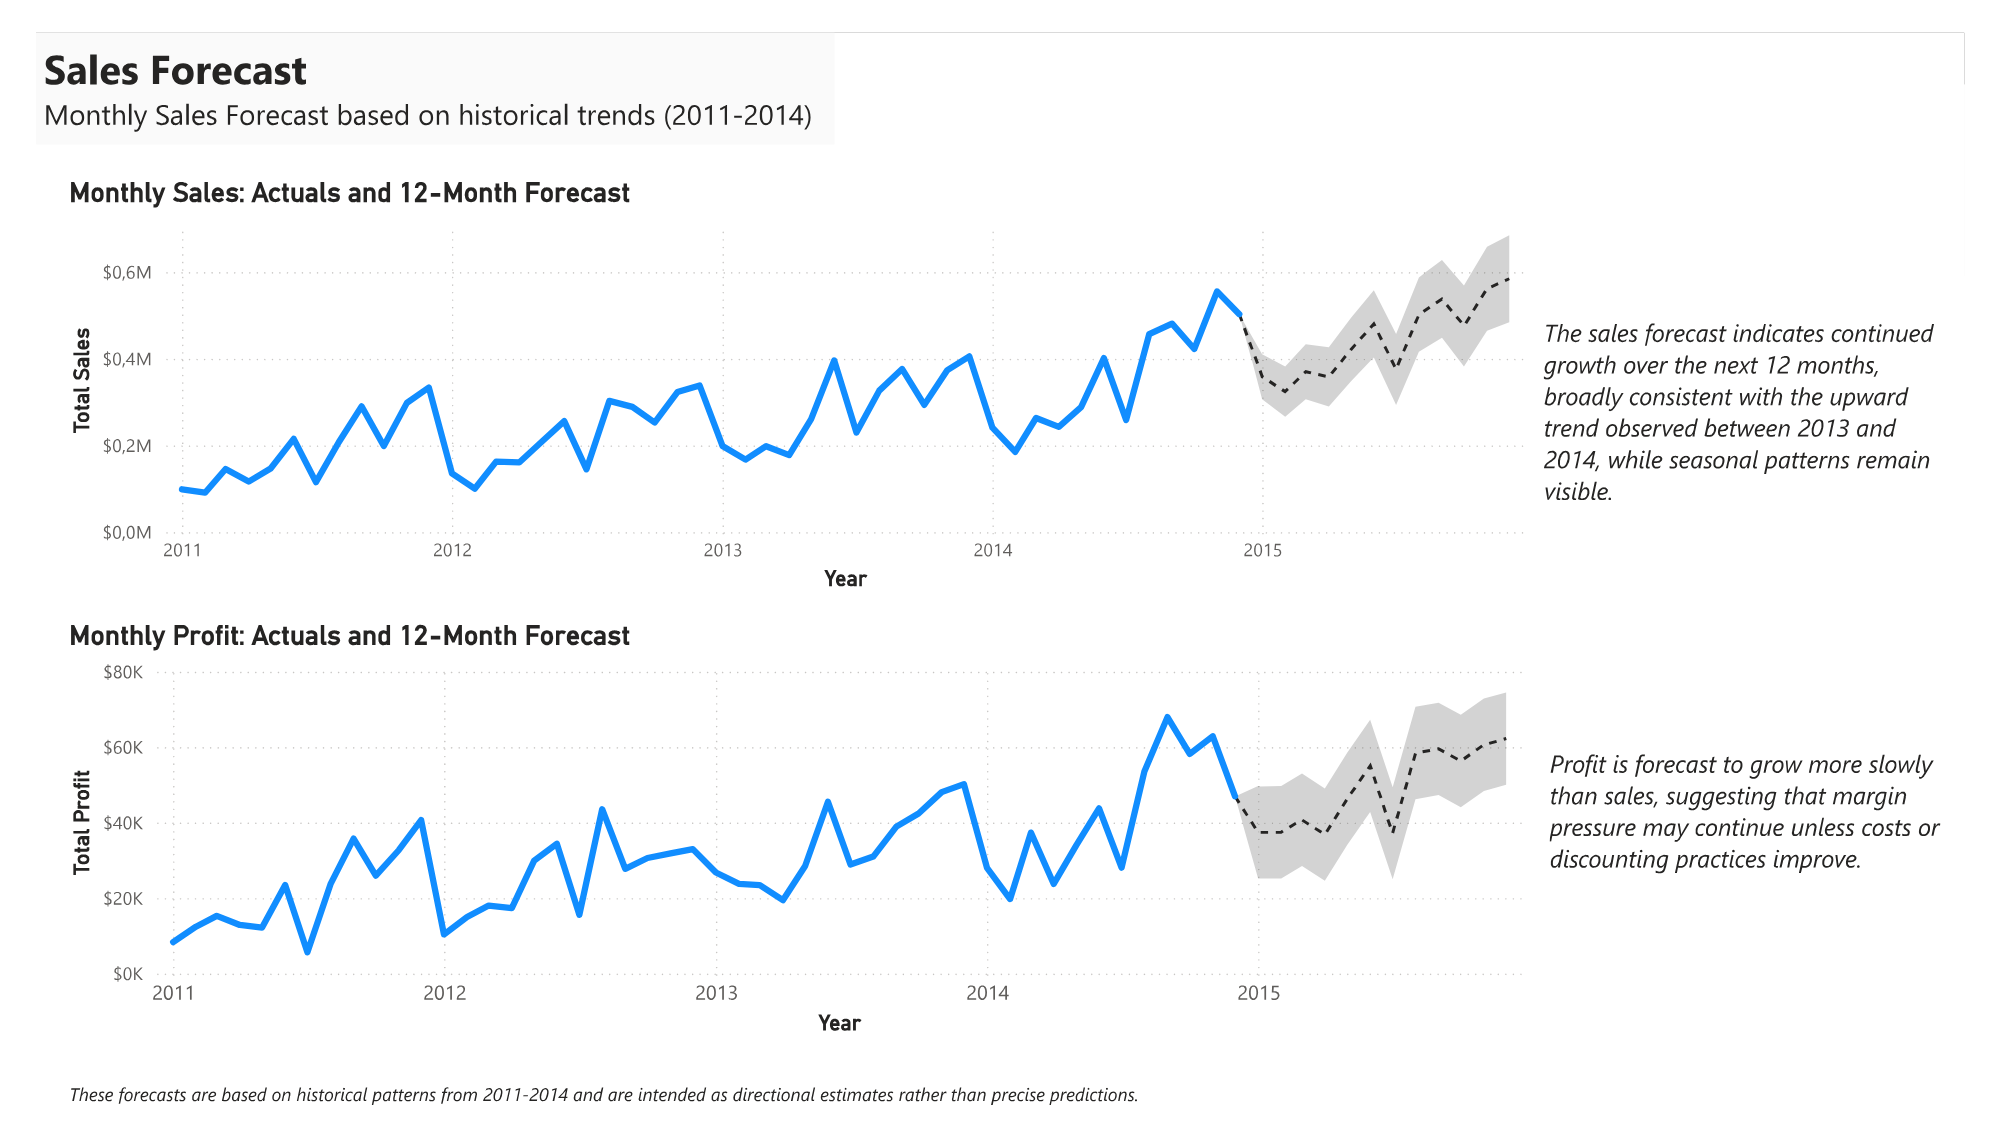

This screenshot's page, from the dashboard's own definition file:
{"tool":"powerbi","page":{"name":"Sales Forecast","canvas":[1280,720],"ordinal":3},"visuals":[{"type":"textbox","title":"Sales Forecast","box":[0,0,529.6,73.6],"z":0},{"type":"lineChart","title":"Monthly Sales: Actuals and 12-Month Forecast","fields":{"Y":["fact_sales.Total Sales"],"Category":["fact_sales.order_ym.Variation.Date Hierarchy.Year","fact_sales.order_ym.Variation.Date Hierarchy.Quarter","fact_sales.order_ym.Variation.Date Hierarchy.Month","fact_sales.order_ym.Variation.Date Hierarchy.Day"]},"box":[16.6,95,979.6,280],"z":1000},{"type":"textbox","box":[999.8,469,280.2,138.9],"z":1250},{"type":"textbox","box":[996.2,182.9,280.2,239.8],"z":1500},{"type":"textbox","box":[16.6,689.9,730.2,29.7],"z":2000},{"type":"lineChart","title":"Monthly Profit: Actuals and 12-Month Forecast","fields":{"Category":["fact_sales.order_ym.Variation.Date Hierarchy.Year","fact_sales.order_ym.Variation.Date Hierarchy.Quarter","fact_sales.order_ym.Variation.Date Hierarchy.Month","fact_sales.order_ym.Variation.Date Hierarchy.Day"],"Y":["fact_sales.Total Profit"]},"box":[16.6,389.5,979.6,280.2],"z":3000}]}

Visuals, with their boxes in screenshot pixels (x1, y1, x2, y2), scaled from the page's 1280x720 canvas onto the 2000x1137 screenshot:
"Sales Forecast" textbox: Rect(0, 0, 828, 116)
"Monthly Sales: Actuals and 12-Month Forecast" lineChart: Rect(26, 150, 1557, 592)
textbox: Rect(1562, 741, 1999, 960)
textbox: Rect(1557, 289, 1994, 668)
textbox: Rect(26, 1089, 1167, 1136)
"Monthly Profit: Actuals and 12-Month Forecast" lineChart: Rect(26, 615, 1557, 1058)
